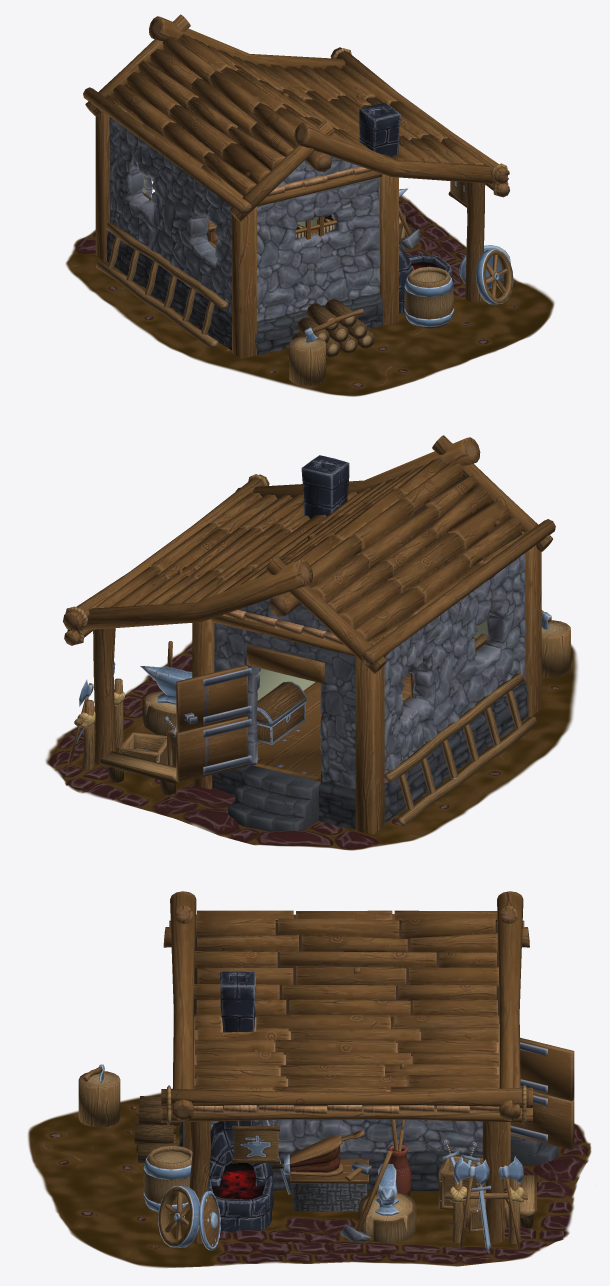
The model's file is blacksmith.glb.
3 renders of one model, top to bottom at view 1: azimuth 30°, elevation 25°; view 2: azimuth 150°, elevation 25°; view 3: azimuth 270°, elevation 25°, orthographic. The views are drawn at different scales.
Parts seen in each view (by area): view 1: Wall_low, Roof_low, Ground_high, RoofSupport_low, RoofSupport3_low, Forge_low, RoofSupport6_low, Ladder_low, RoofSupport9_low, Barrel_low, RoofSupport2_low, RoofSupport4_low (+6 smaller); view 2: Wall_low, Roof_low, Ground_high, RoofSupport_low, RoofSupport3_low, Stairs_low, Ladder_low, RoofSupport6_low, RoofSupport9_low, Door1_low, Door2_low, RoofSupport2_low (+13 smaller); view 3: Roof_low, Ground_high, Wall_low, RoofSupport3_low, Forge_low, RoofSupport4_low, RoofSupport2_low, RoofSupport5_low, Planks_low, Door1_low, StumpWoodcutter_low, WorkbenchStone_low (+21 smaller).
Boxes of the visible parts, x1,y1,x2,y2 form: Wall_low: (106,47,383,354); Roof_low: (99,33,483,197); Ground_high: (65,195,554,396); RoofSupport_low: (95,111,398,358); RoofSupport3_low: (149,16,493,183); Forge_low: (359,102,452,313); RoofSupport6_low: (85,14,334,221); Ladder_low: (96,222,228,348); RoofSupport9_low: (83,87,251,214); Barrel_low: (404,266,454,328); RoofSupport2_low: (465,182,485,301); RoofSupport4_low: (330,47,509,183); Wall_low: (212,476,528,828); Roof_low: (96,457,530,656); Ground_high: (45,641,577,850); RoofSupport_low: (192,545,541,834); RoofSupport3_low: (84,437,480,630); Stairs_low: (228,765,320,831); Ladder_low: (384,673,537,825); RoofSupport6_low: (266,435,552,673); RoofSupport9_low: (361,519,555,665); Door1_low: (176,665,247,732); Door2_low: (176,716,247,782); RoofSupport2_low: (93,628,115,764); Roof_low: (193,910,499,1091); Ground_high: (28,1092,591,1267); Wall_low: (178,923,499,1190); RoofSupport3_low: (170,891,523,1121); Forge_low: (207,971,273,1232); RoofSupport4_low: (161,1087,532,1107); RoofSupport2_low: (189,1121,504,1243); RoofSupport5_low: (161,1107,532,1122); Planks_low: (193,1017,499,1113); Door1_low: (520,1037,574,1100); StumpWoodcutter_low: (78,1071,120,1127); WorkbenchStone_low: (292,1183,367,1211).
Size of the model in its own units: 845 by 484 by 1011.
Materials: 7 (7 with a texture image).
